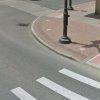Crosswalk: (7, 71, 95, 99)
